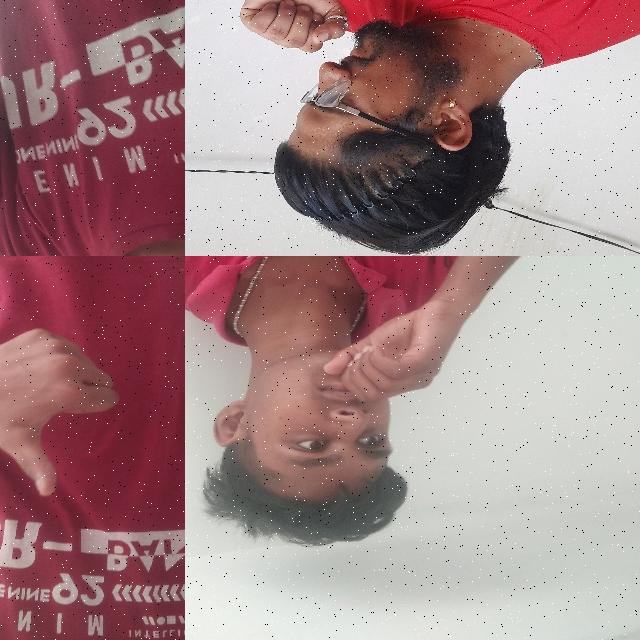Fist Mouth: (186, 303, 473, 554), (222, 0, 474, 241)
Thumbs Up: (0, 314, 125, 503)
